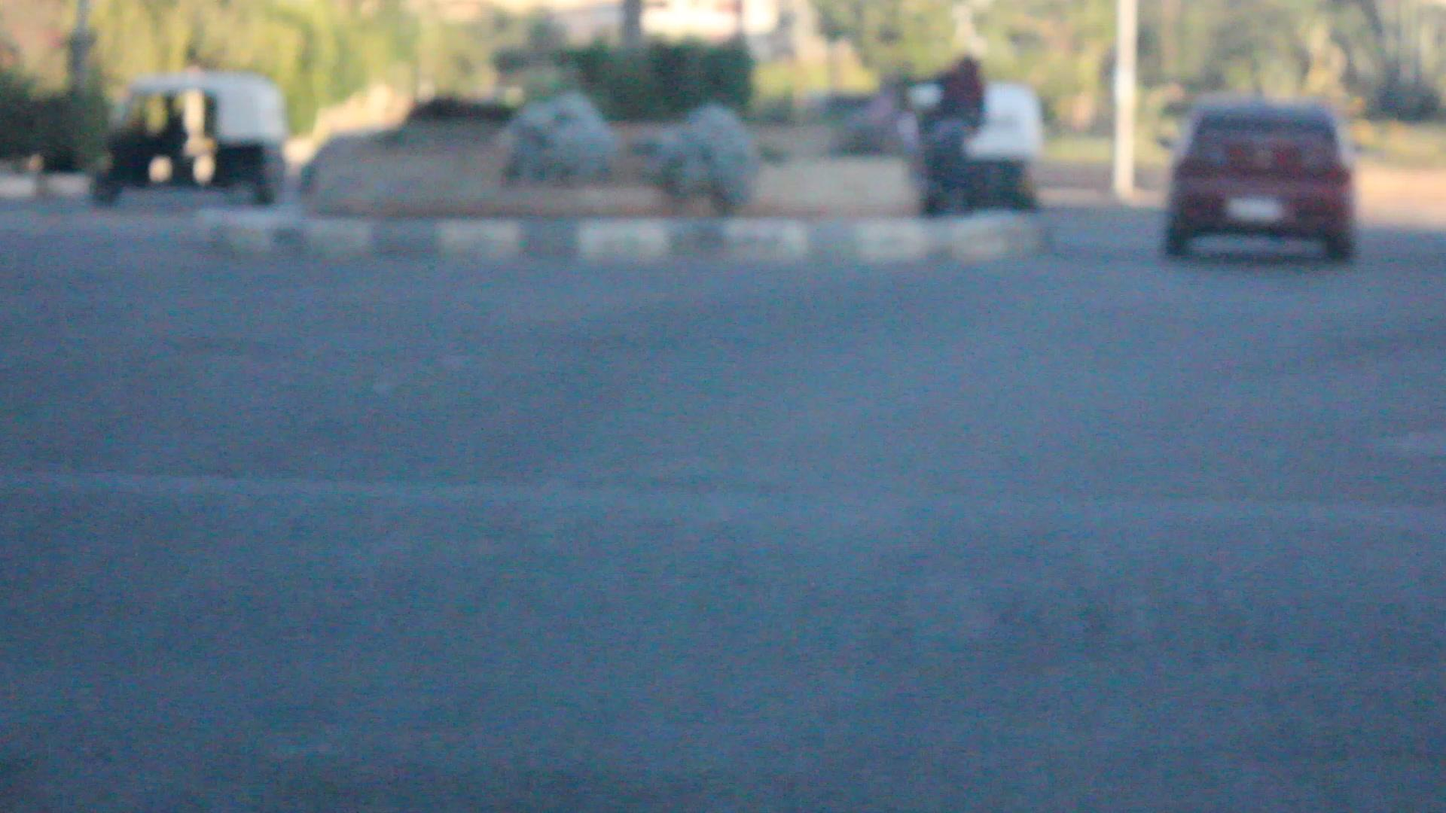Bump: (0, 474, 1446, 728)
